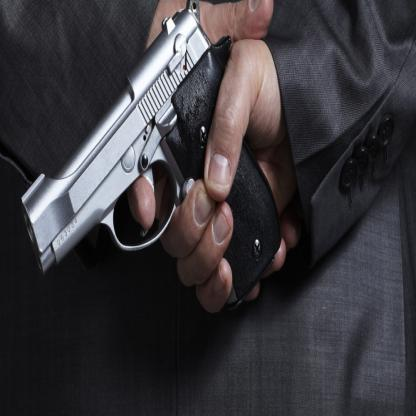gun: (8, 0, 293, 339)
